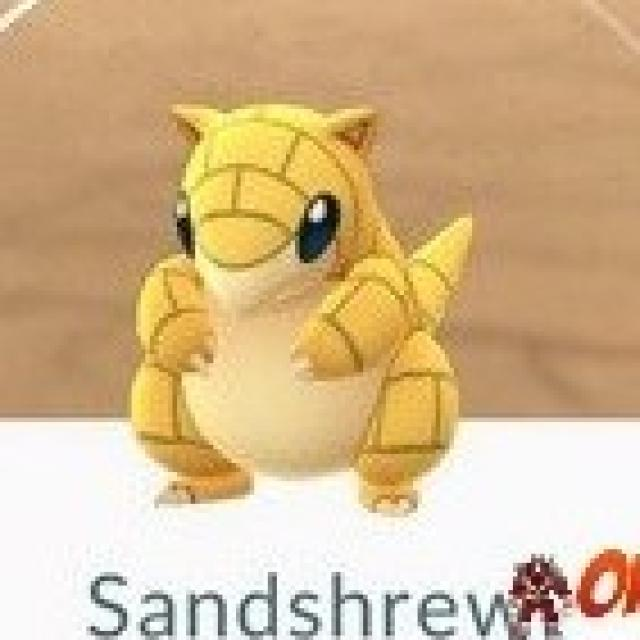Sandshrew: (143, 91, 454, 515)
